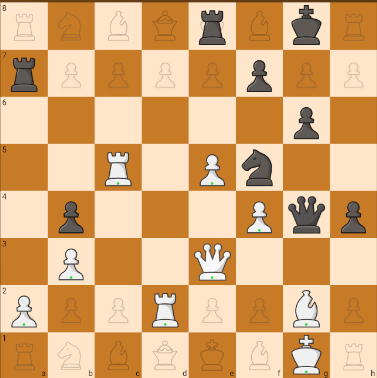bk: (286, 4, 327, 47)
bn: (238, 147, 279, 187)
bp: (50, 193, 91, 236), (287, 100, 327, 142), (336, 193, 372, 236), (243, 55, 276, 94)
bq: (284, 193, 327, 235)
br: (2, 51, 45, 96), (190, 5, 231, 48)
wb: (290, 288, 326, 331)
wk: (287, 335, 328, 376)
wp: (3, 287, 45, 331), (241, 195, 278, 235), (194, 148, 230, 189), (54, 244, 88, 283)
wq: (190, 239, 236, 283)
wr: (98, 145, 137, 189), (146, 288, 186, 329)
